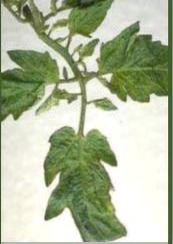Tomato leaf mosaic virus: (39, 123, 129, 239), (98, 23, 169, 104), (3, 45, 61, 128)
